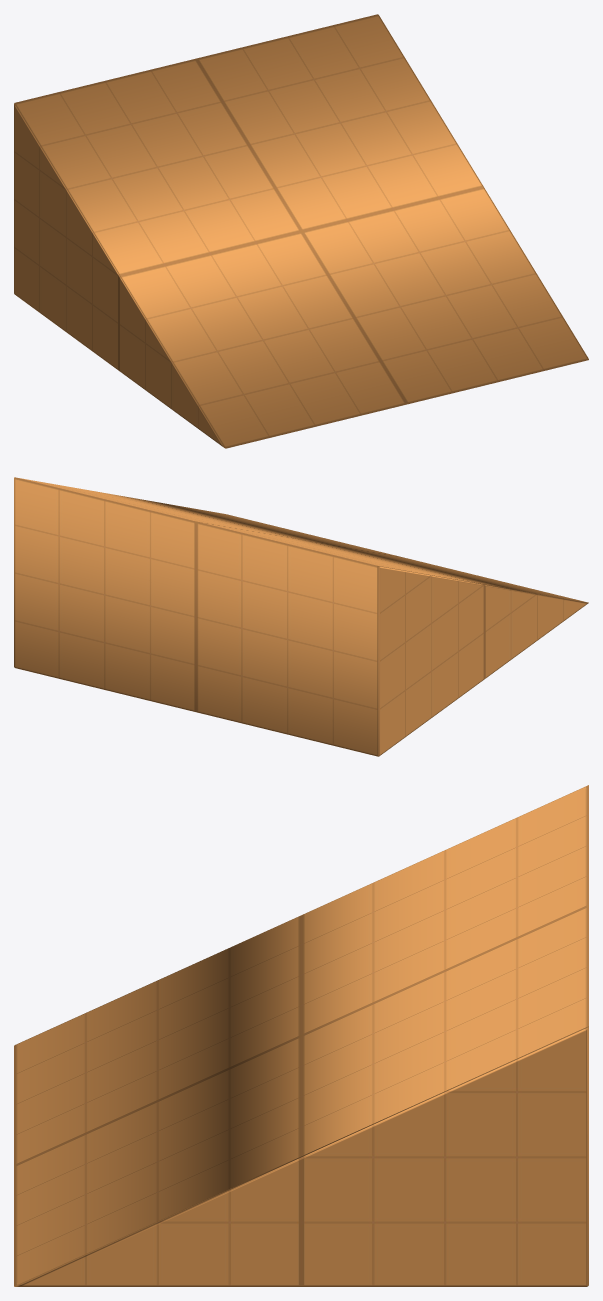
File: ramp-inclined-plane.glb
The picture shows the model from 3 angles, top to bottom: view 1: azimuth 30°, elevation 25°; view 2: azimuth 150°, elevation 25°; view 3: azimuth 270°, elevation 25°; orthographic projection. The views are drawn at different scales.
Parts seen in each view (by area): view 1: proto-ramp-2m_wedge; view 2: proto-ramp-2m_wedge; view 3: proto-ramp-2m_wedge.
Boxes of the visible parts, x1,y1,x2,y2 form: proto-ramp-2m_wedge: (14, 14, 588, 448); proto-ramp-2m_wedge: (14, 477, 588, 756); proto-ramp-2m_wedge: (14, 785, 588, 1286).
Bounding box in the file's own units: 2 × 1 × 2.
1 material, 1 textured.
